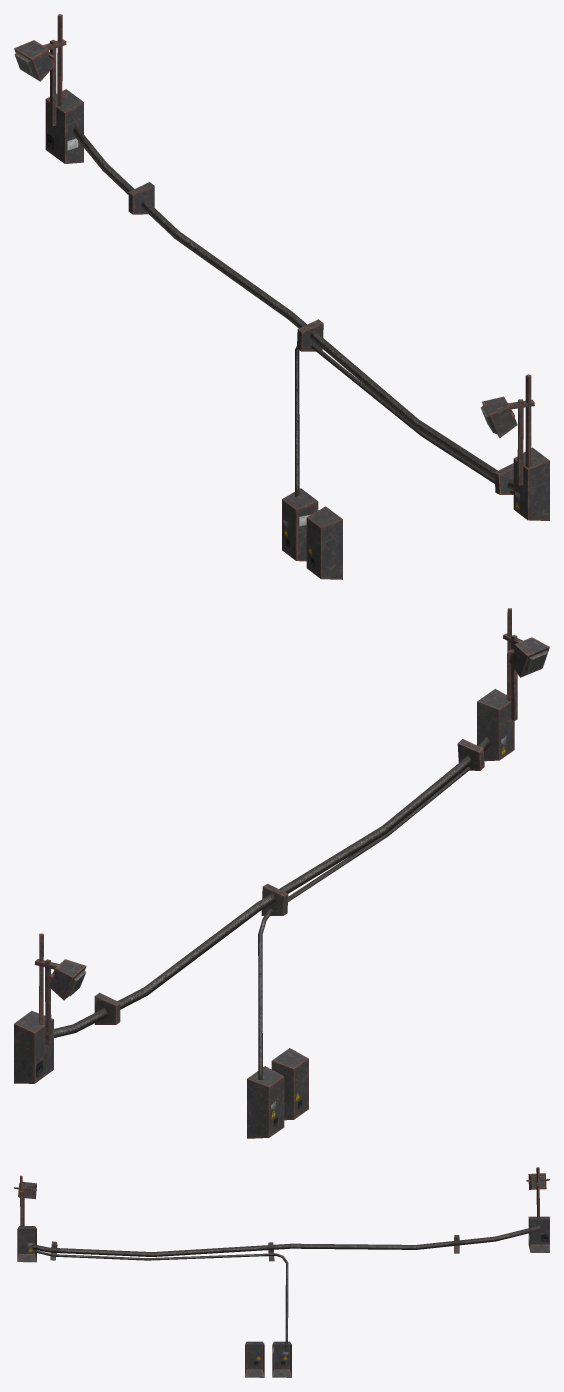
Rendered from WallCable.glb.
3 renders of one model, top to bottom at view 1: azimuth 30°, elevation 25°; view 2: azimuth 150°, elevation 25°; view 3: azimuth 270°, elevation 25°, orthographic. The views are drawn at different scales.
Visible parts, largest first — view 1: SP_TNR_Cables_1; view 2: SP_TNR_Cables_1; view 3: SP_TNR_Cables_1.
Part boxes in pixels (bbox=[...]): SP_TNR_Cables_1: bbox=[14, 14, 549, 579]; SP_TNR_Cables_1: bbox=[14, 608, 549, 1138]; SP_TNR_Cables_1: bbox=[14, 1167, 549, 1377].
Size of the model in its own units: 0.3399 by 2.04 by 4.81.
1 material, 1 textured.
